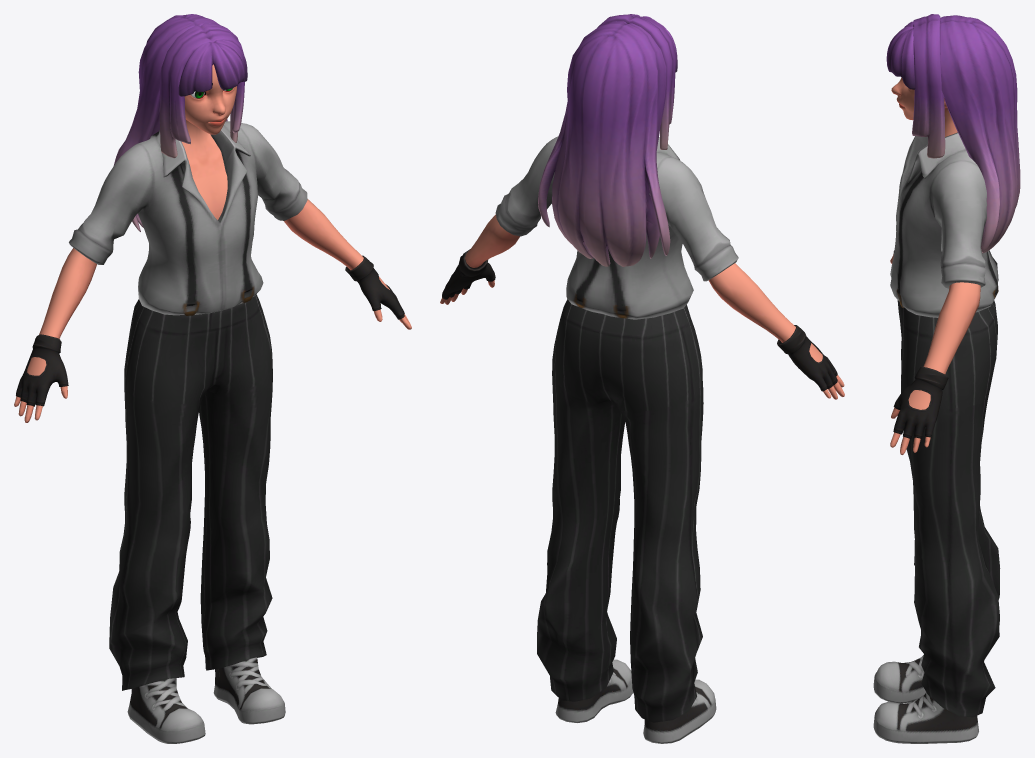
File: StaffPixiepata_Mesh.obj
The picture shows the model from 3 angles, left to right: view 1: azimuth 30°, elevation 25°; view 2: azimuth 150°, elevation 25°; view 3: azimuth 270°, elevation 25°; orthographic projection.
Parts seen in each view (by area): view 1: StaffPixiepata_Mesh_0; view 2: StaffPixiepata_Mesh_0; view 3: StaffPixiepata_Mesh_0.
Boxes of the visible parts, x1,y1,x2,y2 form: StaffPixiepata_Mesh_0: (14, 14, 411, 743); StaffPixiepata_Mesh_0: (440, 14, 844, 743); StaffPixiepata_Mesh_0: (873, 14, 1020, 743).
Size of the model in its own units: 1.06 by 1.8 by 0.3442.
1 material, 1 textured.
